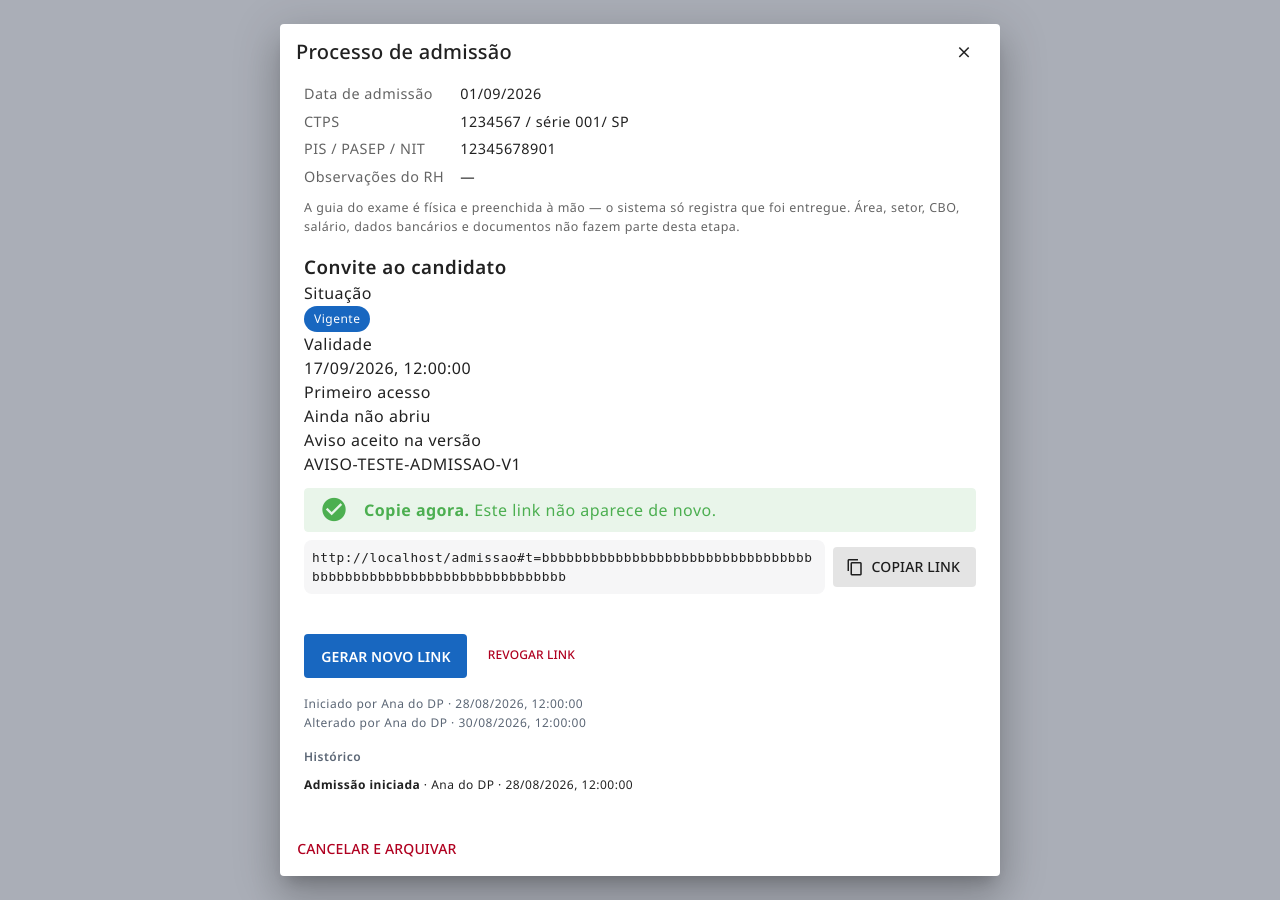
Test: o convite sai como LINK, e o token cru nunca aparece sozinho › Deve_CopiarOLinkInteiro_E_Anunciar_Quando_A_CopiaFunciona
The width and height of the screenshot is (1280, 900).
(page scrolled)
Click the button "Copiar link" at point(905, 567), box [833,547,976,587]
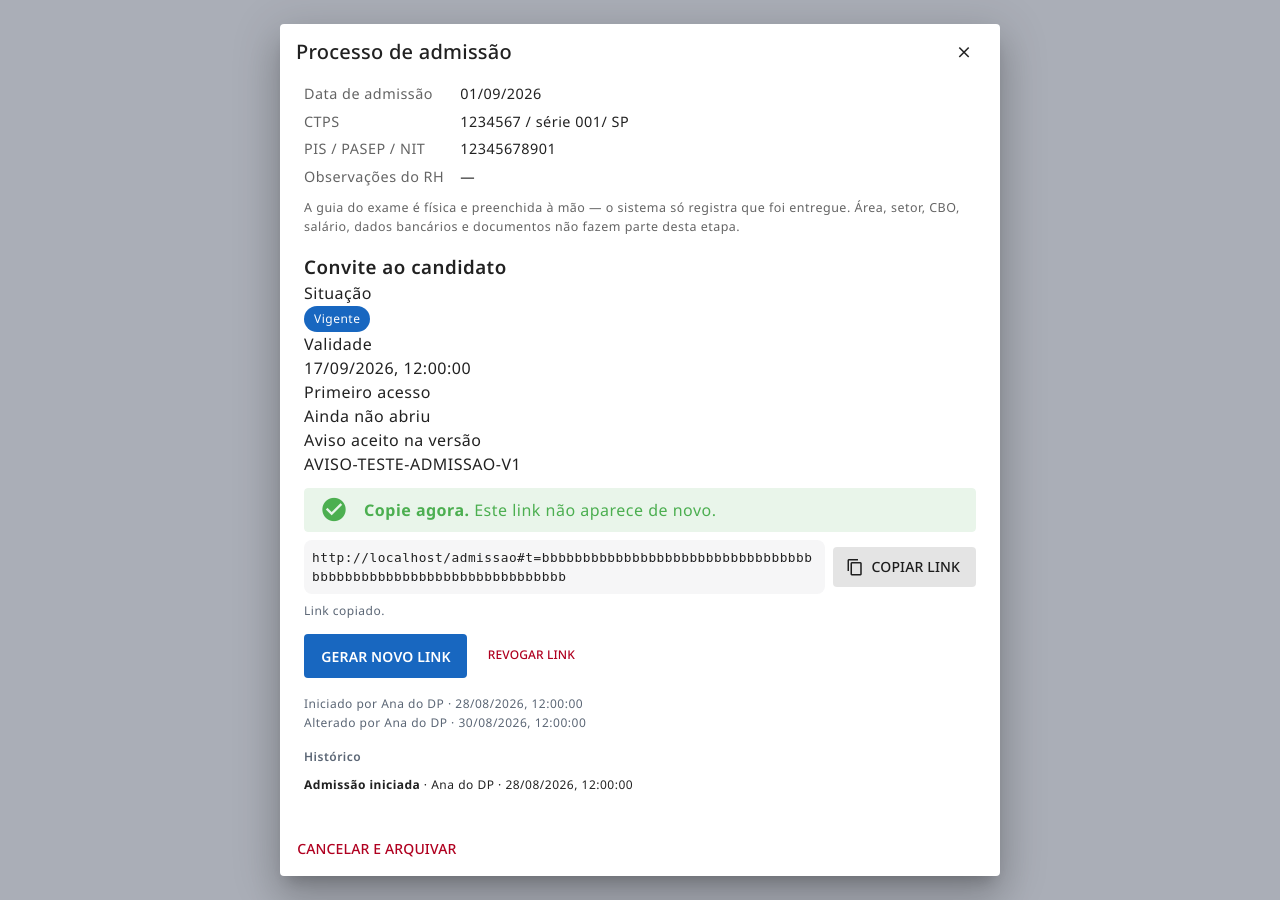
Check: the message with class "detalhe-convite__copia" reads "Link copiado.", box [304,602,385,619]
